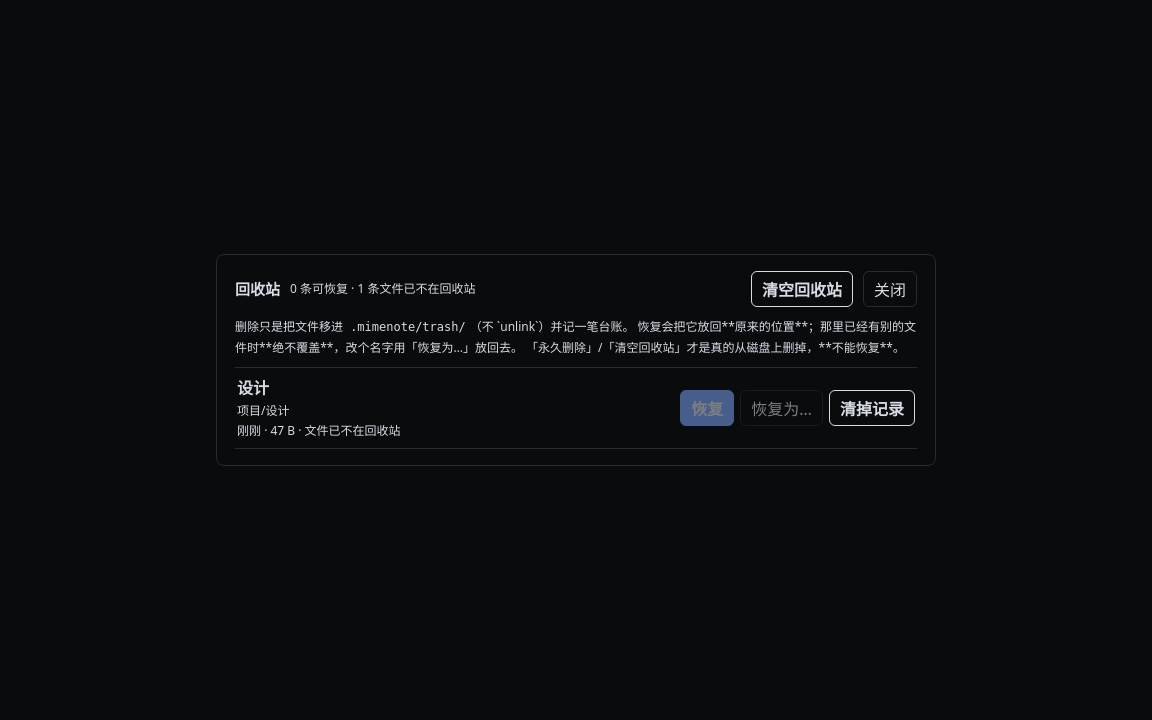
Test: 永久删除与清空 › 孤儿记录的「永久删除」只清台账记录：进 missing、不释放空间、文案说清
Click the button "清掉记录".
click(872, 408)  # box [829,390,915,426]
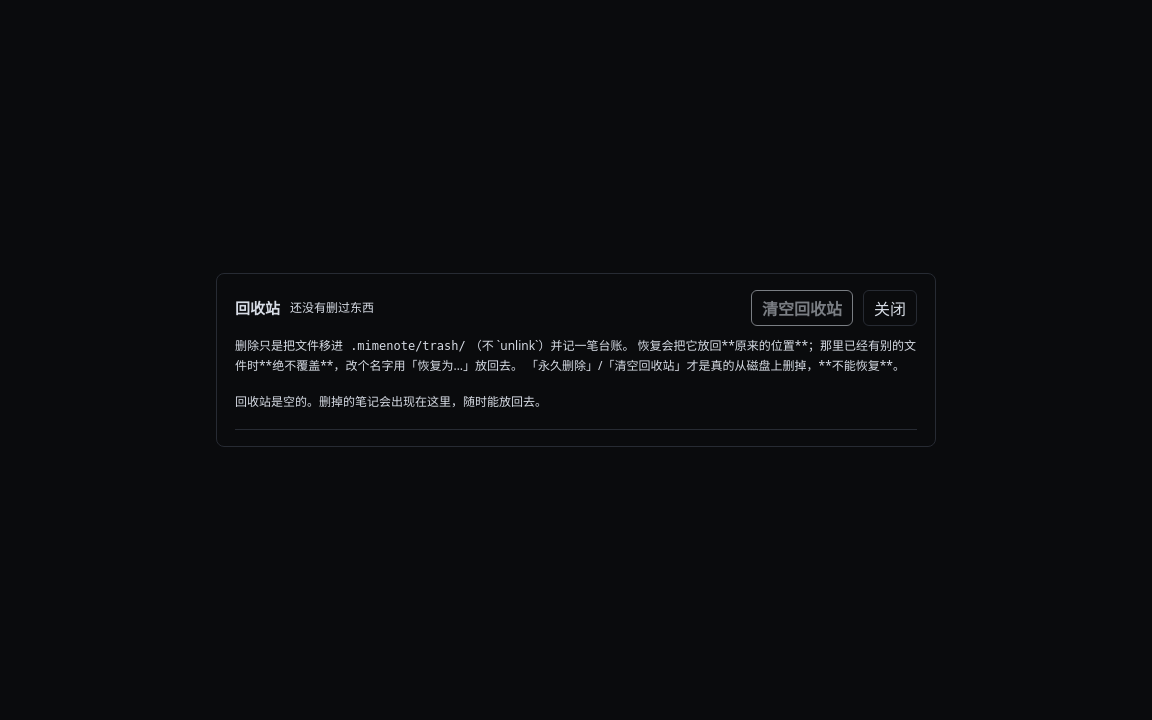
Expected: the text "设计" is gone
